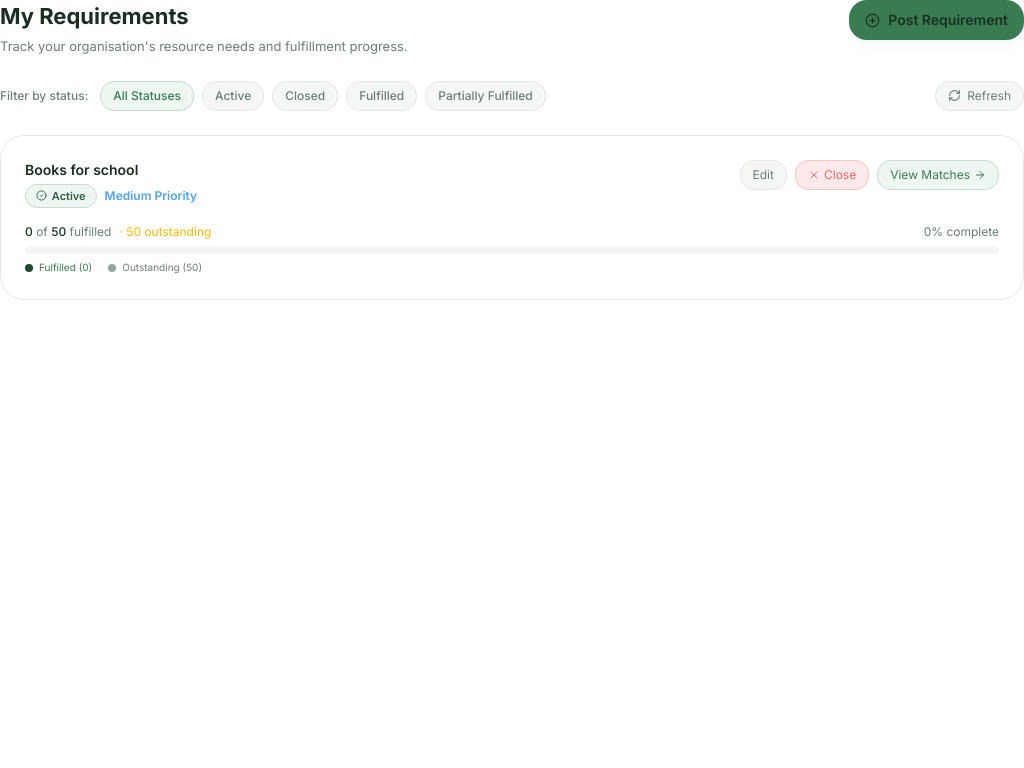
MyRequirements › T-14.1-05: close button opens confirmation dialog
Check: the heading "Books for school" is shown, box [25, 160, 138, 180]
Click the button with id "close-req-2".
click(832, 174)  # box [795, 160, 869, 190]
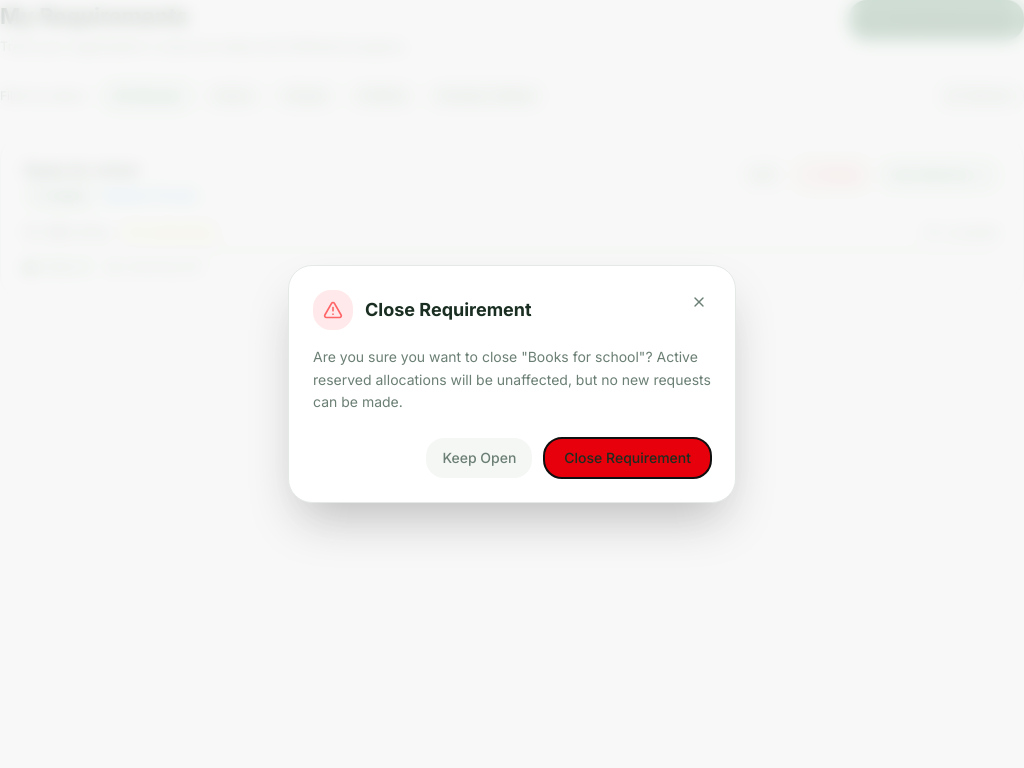
Check: the heading "Close Requirement" is shown, box [365, 296, 532, 324]
Check: the heading with id "confirm-dialog-title" reads "Close Requirement", box [365, 299, 532, 320]
